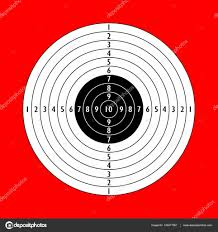target: (17, 16, 204, 198)
